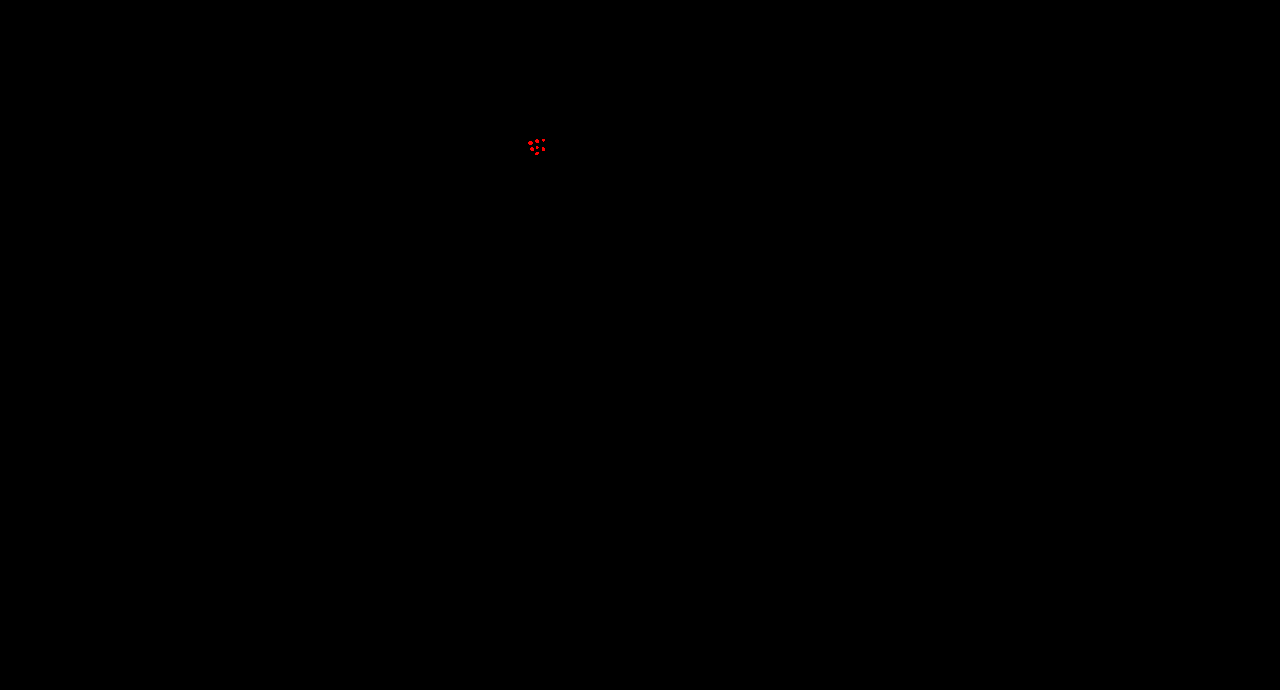Target: (528, 141, 533, 145), (535, 139, 539, 143), (530, 147, 534, 151), (542, 147, 545, 151), (535, 152, 539, 155), (542, 139, 545, 142), (536, 146, 539, 149)
